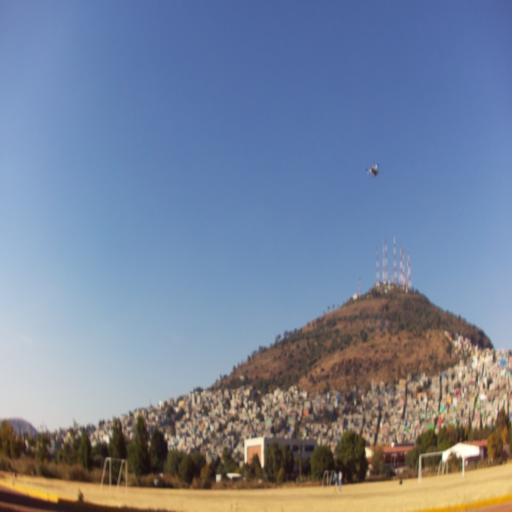drones: (364, 159, 385, 184)
